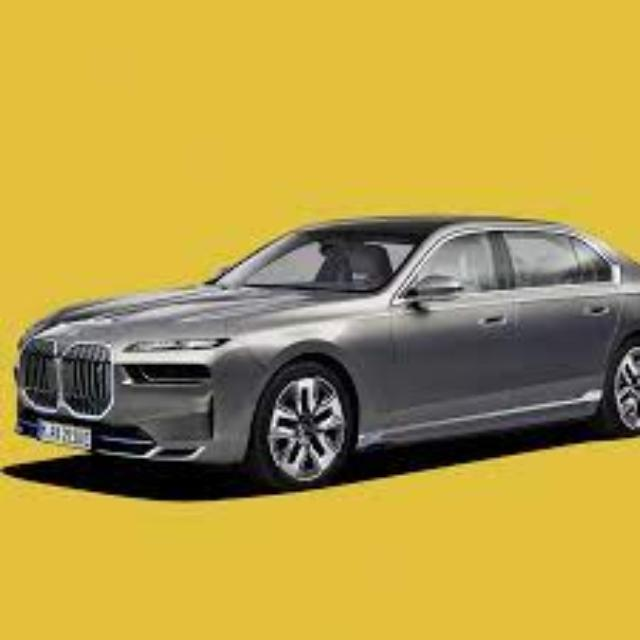bmw: (12, 215, 640, 493)
